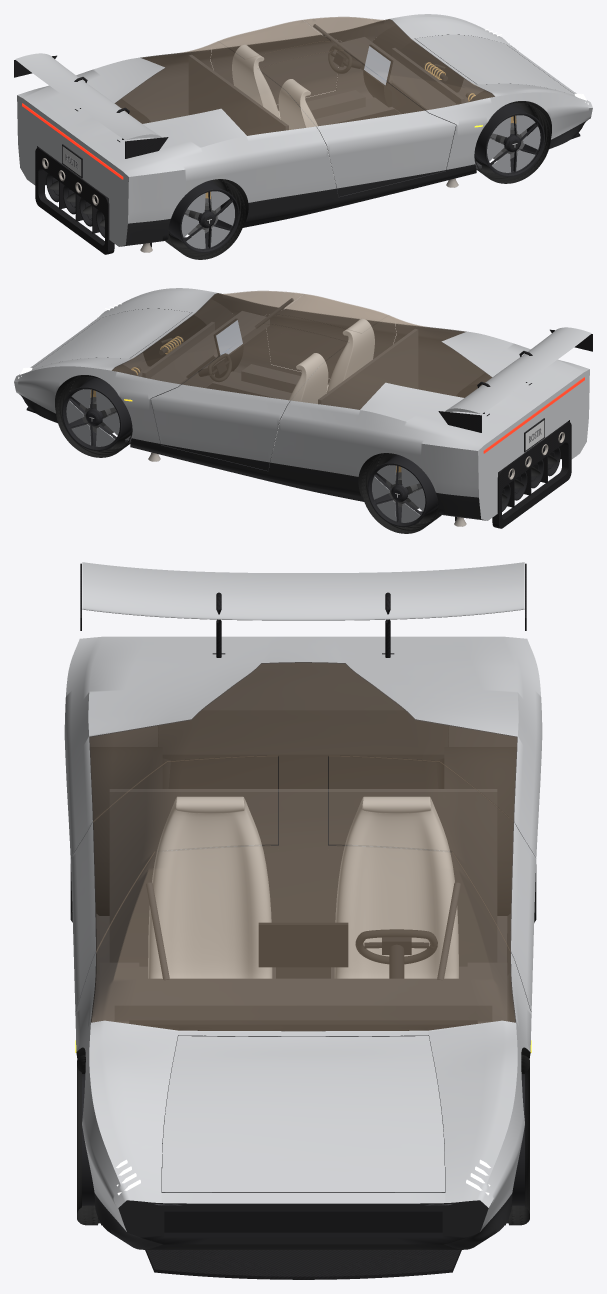
File: roadster.glb
3 views of the same model, one above another, from view 1: azimuth 30°, elevation 25°; view 2: azimuth 150°, elevation 25°; view 3: azimuth 270°, elevation 25° (orthographic). The views are drawn at different scales.
Parts seen in each view (by area): view 1: Body, Door_R, Interior_tub, Door_L, Frunk, Rim_FR, Wing, Rim_RR, FanBay_bezel, Dashboard, Seat_L, Seat_R (+10 smaller); view 2: Body, Door_L, Interior_tub, Door_R, Frunk, Rim_FL, Wing, Rim_RL, FanBay_bezel, Dashboard, Seat_R, Seat_L (+10 smaller); view 3: Body, Frunk, Interior_tub, Wing, Dashboard, Door_R, Door_L, Seat_R, Seat_L, Splitter, Screen, Yoke (+2 smaller).
Boxes of the visible parts, <box> form: Body: <box>17,14,592,246</box>; Door_R: <box>258,50,455,196</box>; Interior_tub: <box>188,48,481,196</box>; Door_L: <box>210,20,341,104</box>; Frunk: <box>415,34,574,95</box>; Rim_FR: <box>474,102,544,177</box>; Wing: <box>15,53,161,140</box>; Rim_RR: <box>168,180,239,253</box>; FanBay_bezel: <box>35,147,151,254</box>; Dashboard: <box>313,24,456,122</box>; Seat_L: <box>232,44,280,119</box>; Seat_R: <box>278,79,335,184</box>; Body: <box>14,288,589,520</box>; Door_L: <box>151,324,348,470</box>; Interior_tub: <box>125,322,418,470</box>; Door_R: <box>265,294,396,378</box>; Frunk: <box>32,308,191,369</box>; Rim_FL: <box>62,376,132,451</box>; Wing: <box>445,327,591,414</box>; Rim_RL: <box>367,454,438,527</box>; FanBay_bezel: <box>455,421,571,528</box>; Dashboard: <box>150,298,293,396</box>; Seat_R: <box>326,318,374,393</box>; Seat_L: <box>271,353,328,458</box>; Body: <box>64,636,542,1249</box>; Frunk: <box>162,1036,444,1192</box>; Interior_tub: <box>99,789,507,1111</box>; Wing: <box>82,562,524,620</box>; Dashboard: <box>114,882,492,1031</box>; Door_R: <box>70,756,277,1011</box>; Door_L: <box>329,756,536,1011</box>; Seat_R: <box>148,796,272,978</box>; Seat_L: <box>334,796,458,978</box>; Splitter: <box>145,1250,461,1279</box>; Screen: <box>258,922,348,967</box>; Yoke: <box>355,929,437,964</box>.
Size of the model in its own units: 4.47 by 1.23 by 1.92.
Materials: 35 (1 with a texture image).
